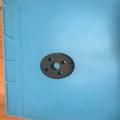gear: (39, 52, 76, 80)
